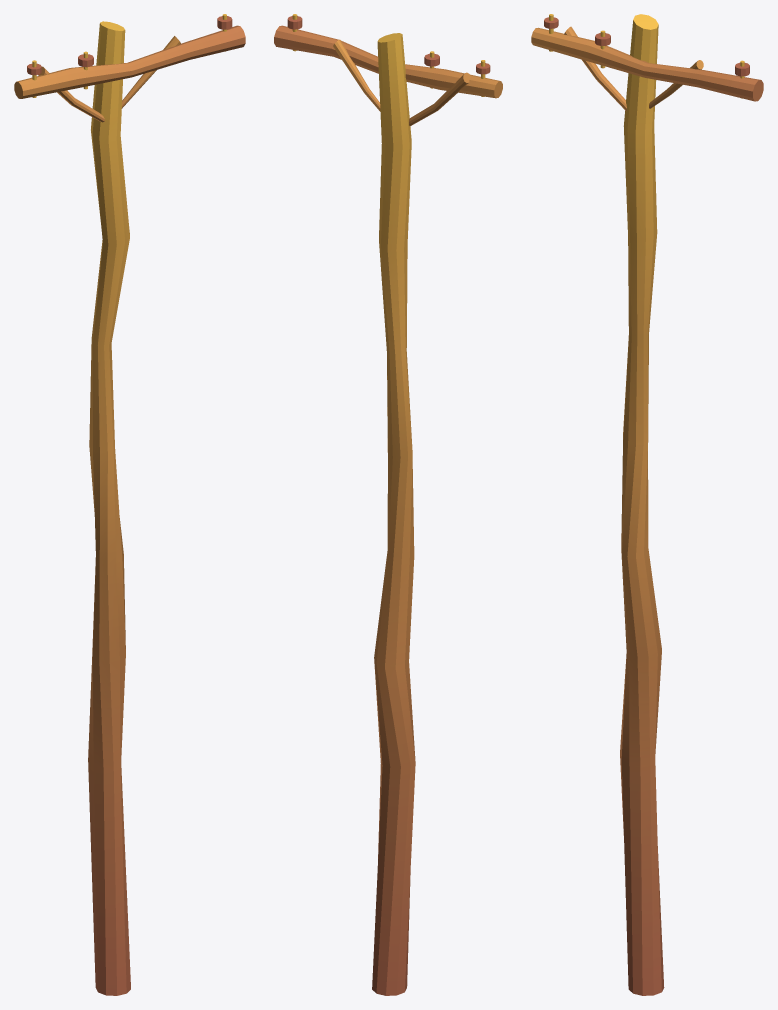
The model's file is TelephonePoleA.fbx.
3 renders of one model, left to right at view 1: azimuth 30°, elevation 25°; view 2: azimuth 150°, elevation 25°; view 3: azimuth 330°, elevation 25°, orthographic.
Parts seen in each view (by area): view 1: TelephonePoleA; view 2: TelephonePoleA; view 3: TelephonePoleA.
Part boxes in pixels (x1=…): TelephonePoleA: x1=14, y1=14, x2=245, y2=995; TelephonePoleA: x1=274, y1=14, x2=502, y2=995; TelephonePoleA: x1=531, y1=14, x2=763, y2=995.
Size of the model in its own units: 48.52 by 202 by 9.11.
1 material, 1 textured.
